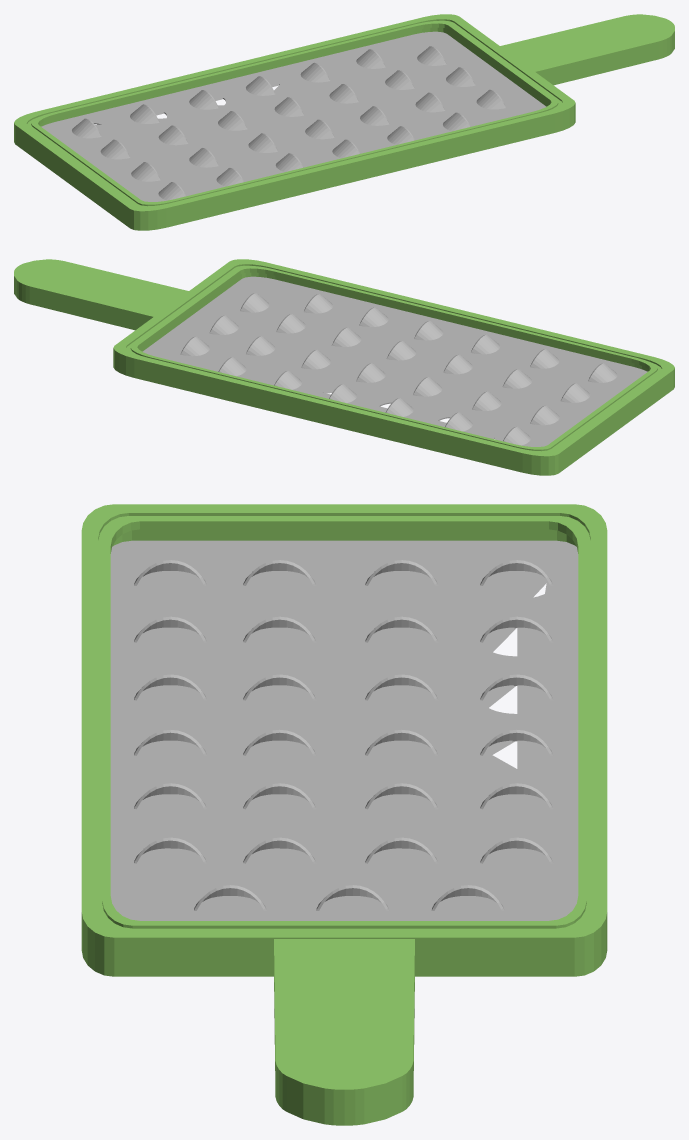
The model's file is Cheese-Grater_V02.fbx.
The picture shows the model from 3 angles, top to bottom: view 1: azimuth 30°, elevation 25°; view 2: azimuth 150°, elevation 25°; view 3: azimuth 270°, elevation 25°; orthographic projection. The views are drawn at different scales.
Parts seen in each view (by area): view 1: Body; view 2: Body; view 3: Body.
Boxes of the visible parts, x1,y1,x2,y2 form: Body: (14, 14, 674, 230); Body: (14, 259, 674, 475); Body: (81, 504, 607, 1125).
Bounding box in the file's own units: 209 × 6.83 × 79.57.
